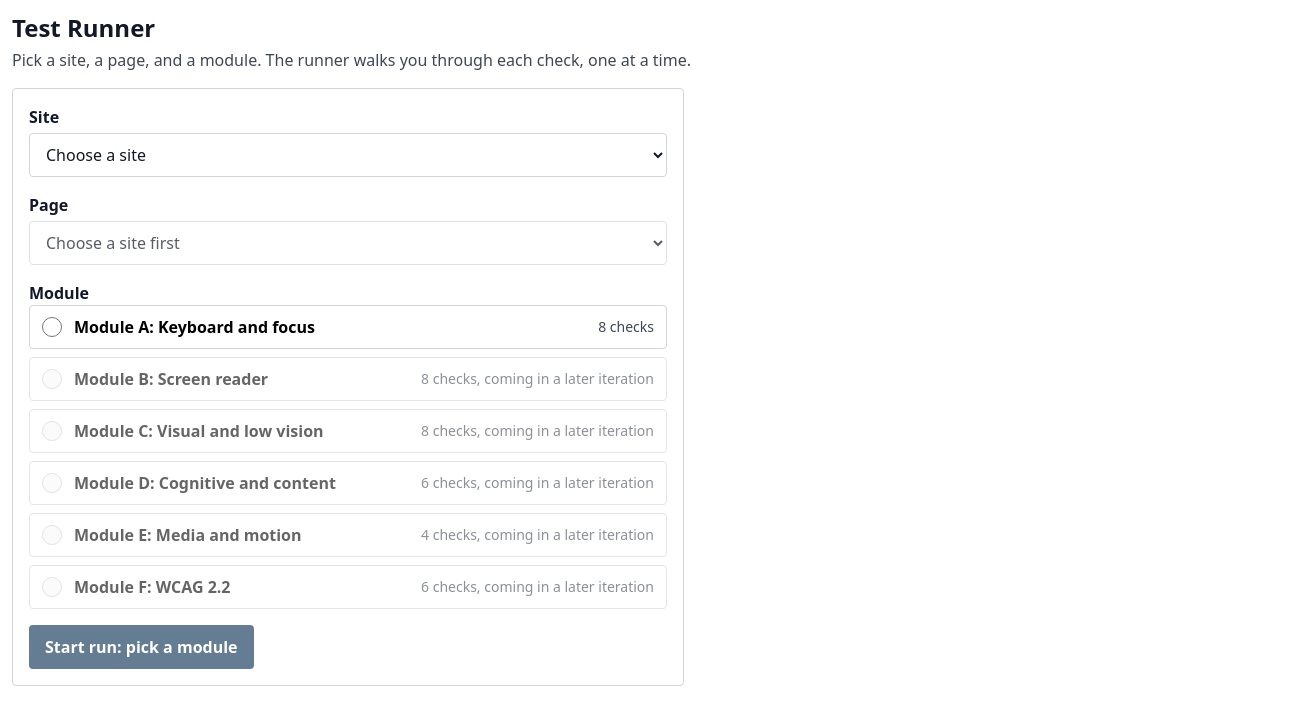
Test Runner setup › starting a run shows the first Module A check
The width and height of the screenshot is (1304, 713).
Select "Sample University Department (sample)" in the dropdown labelled "Site" at (348, 155), box x1=29 y1=133 x2=667 y2=177
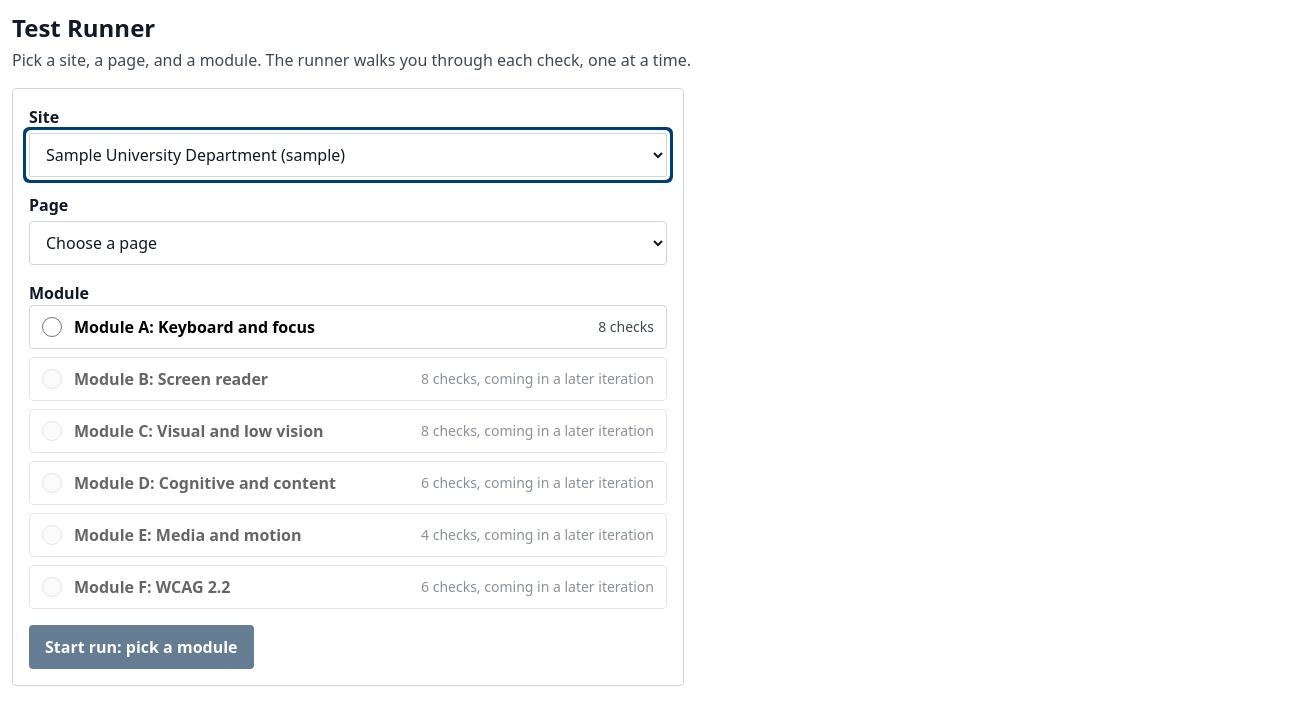
Select "Department home" in the dropdown labelled "Page" at (348, 243), box x1=29 y1=221 x2=667 y2=265
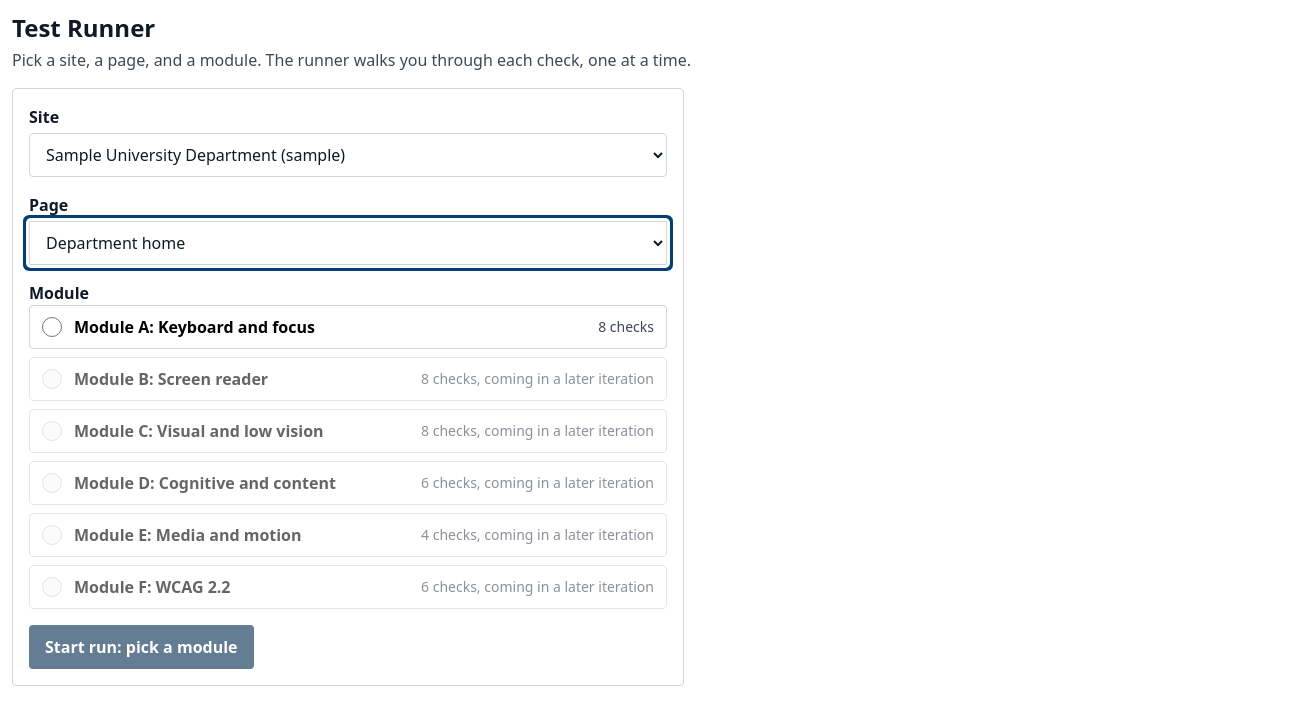
Click the radio button labelled "Module A: Keyboard and focus 8 checks".
click(52, 327)  # box x1=42 y1=317 x2=62 y2=337
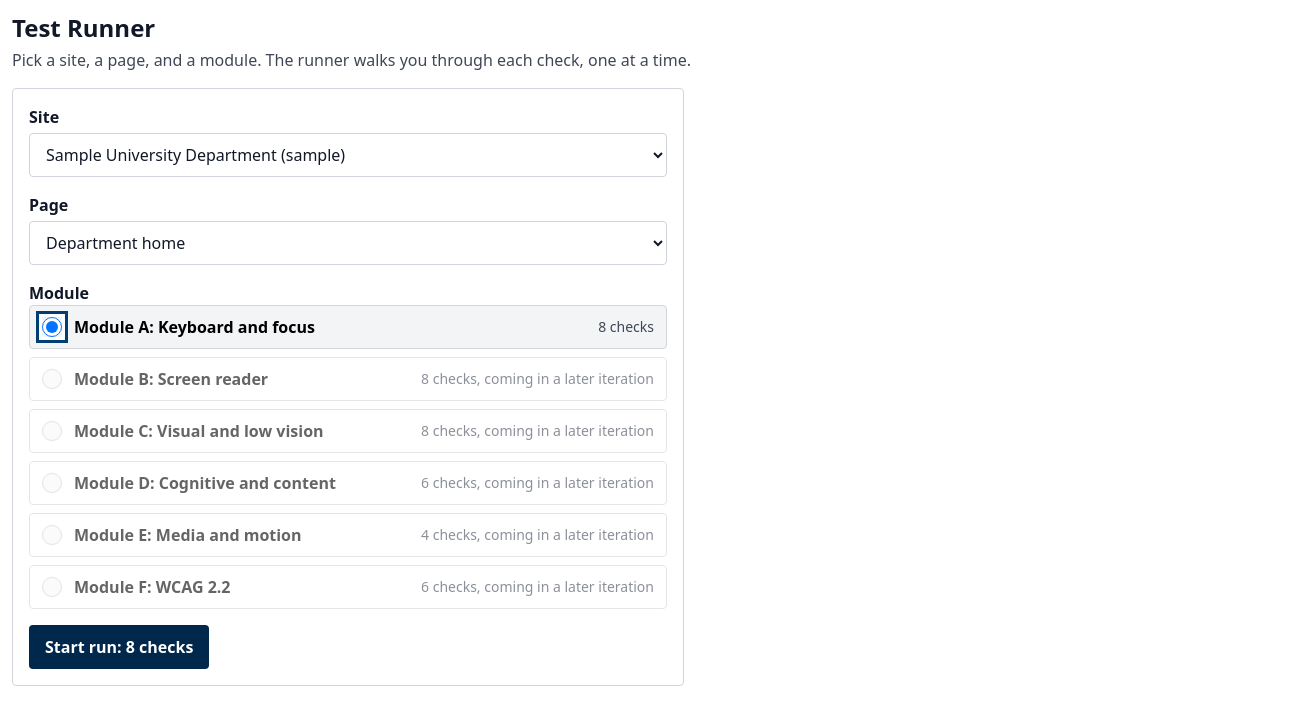
Click the button "Start run: 8 checks".
click(119, 647)  # box x1=29 y1=625 x2=209 y2=669
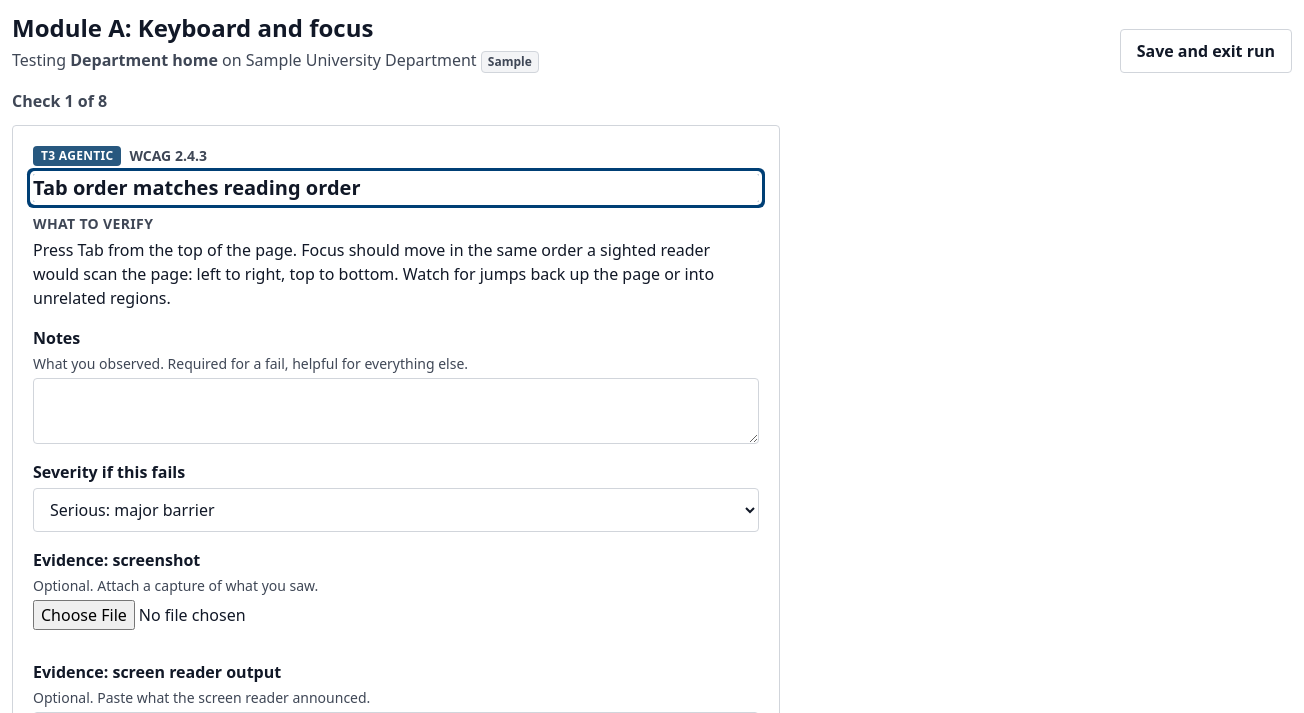
Expected: the heading "Tab order matches reading order" is shown, x1=33 y1=174 x2=759 y2=202
Expected: the text "Check 1 of 8" is shown, x1=12 y1=90 x2=107 y2=112
